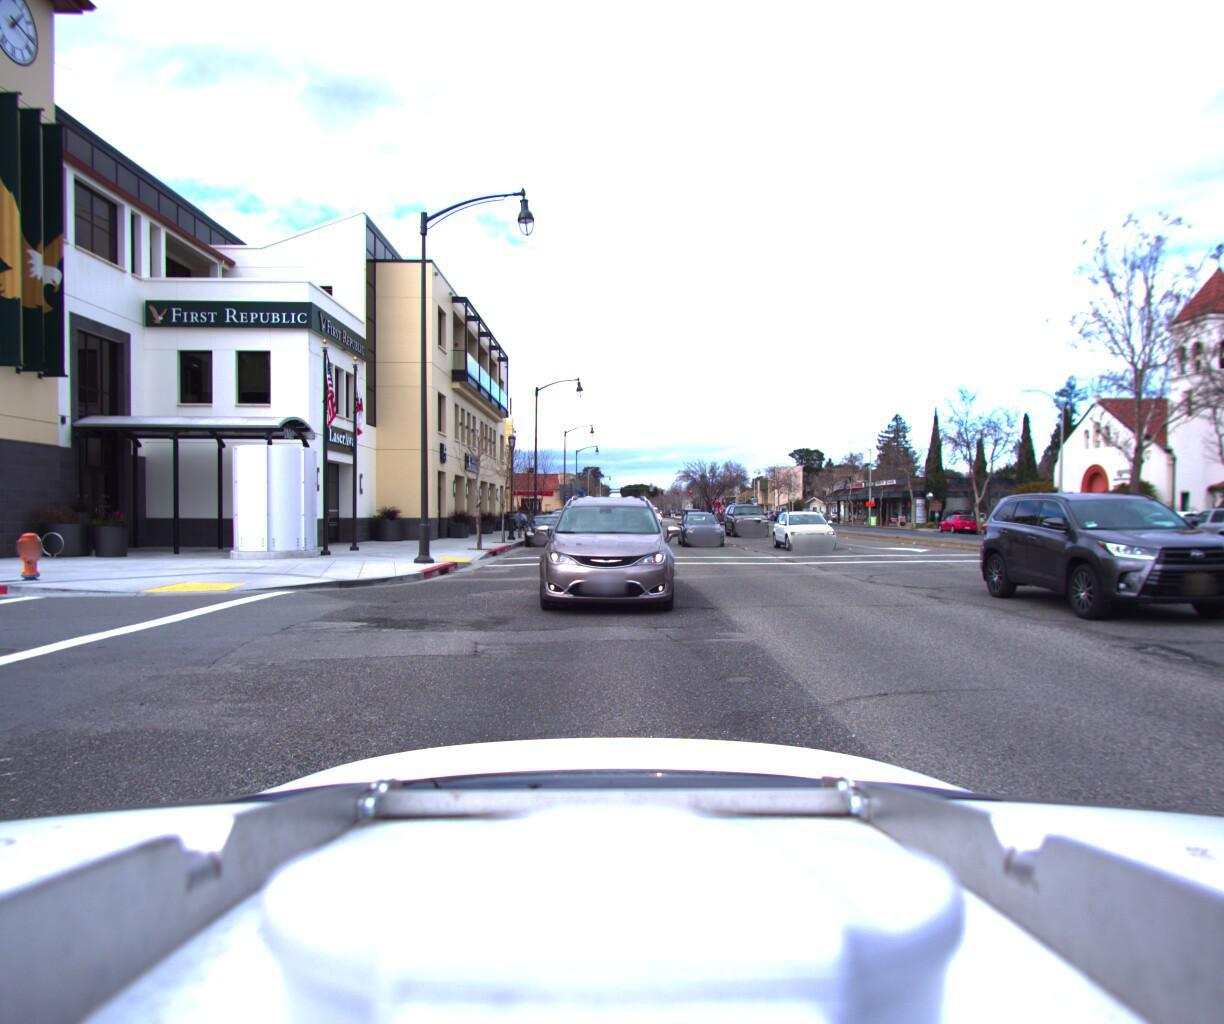car: (978, 480, 1224, 640), (515, 480, 692, 620), (1143, 503, 1224, 553), (768, 508, 847, 551), (674, 505, 735, 548), (723, 497, 777, 536), (518, 510, 570, 546), (934, 510, 983, 532), (639, 502, 663, 523)
